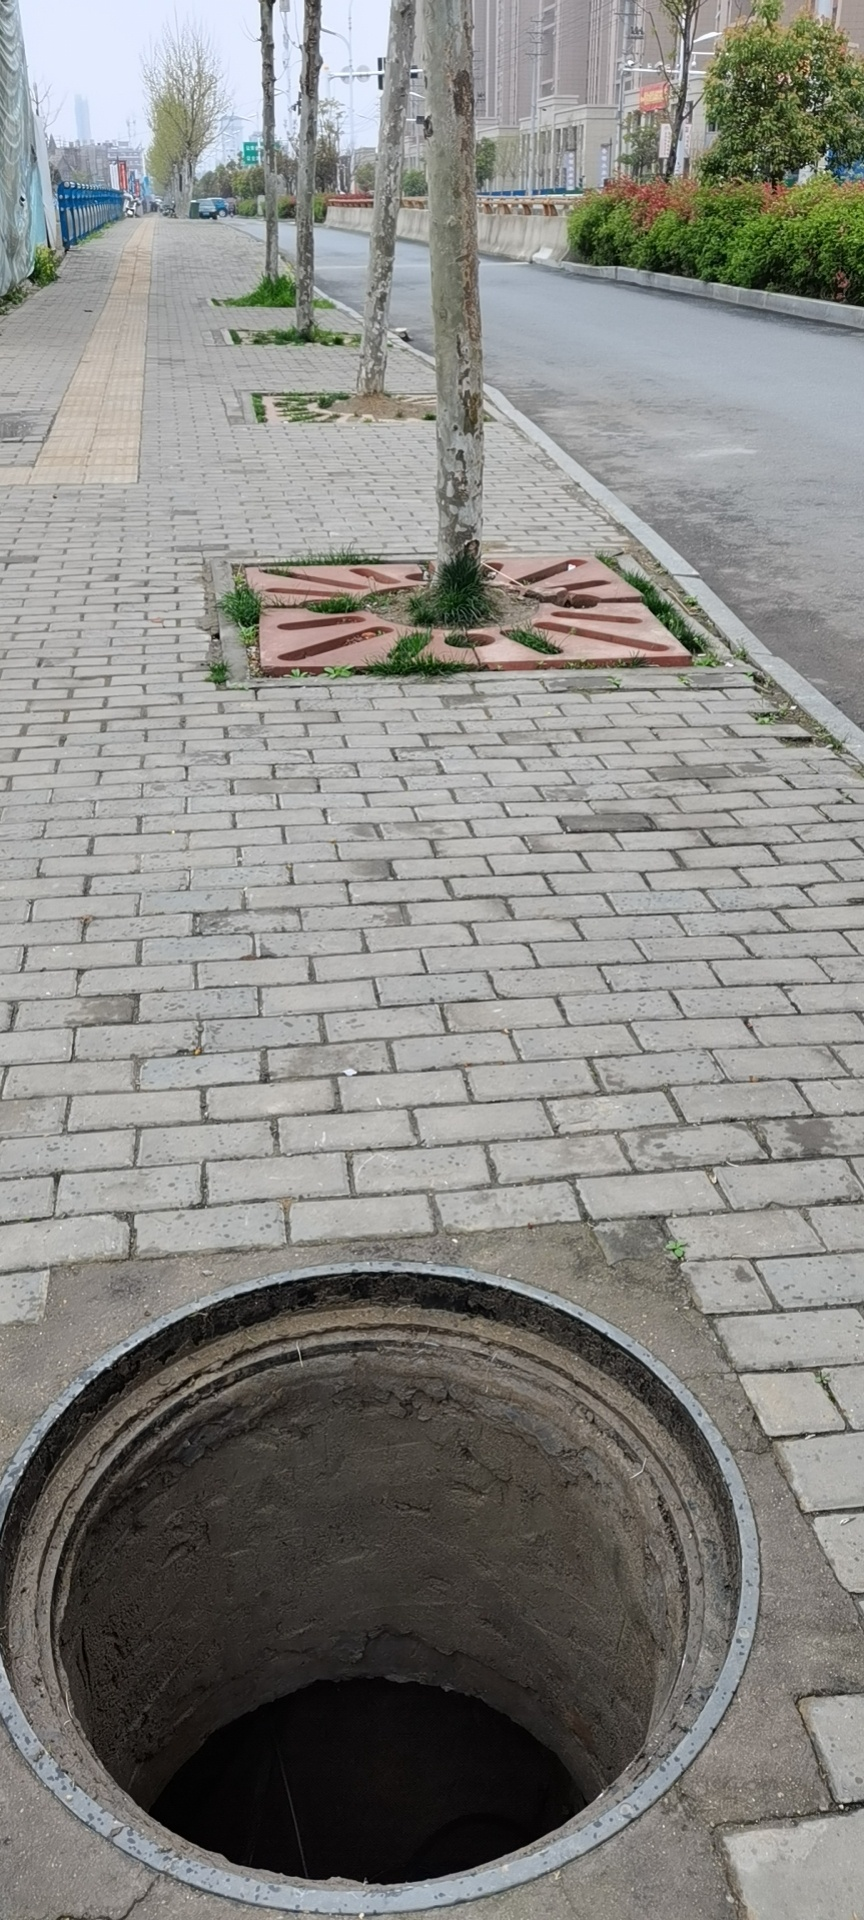lose: (1, 1258, 764, 1915)
